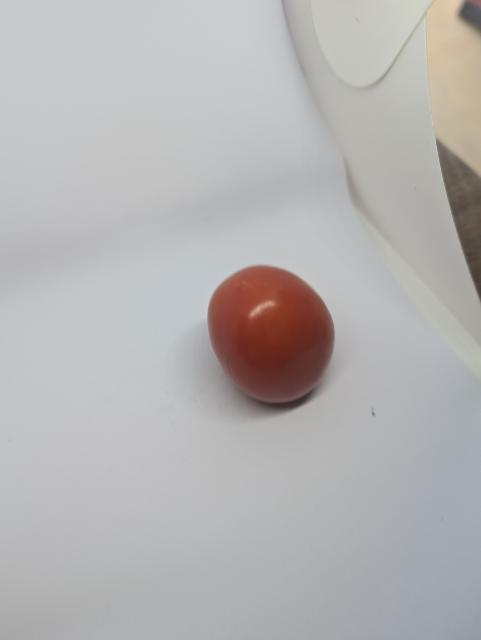red: (191, 254, 354, 418)
